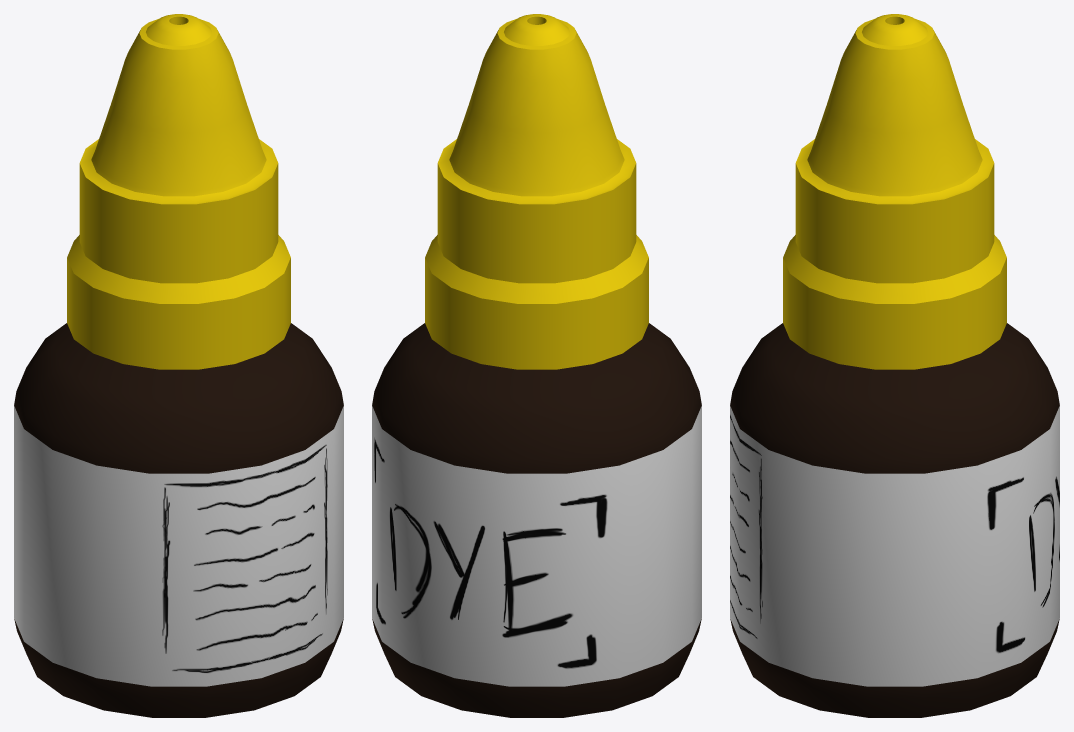
Rendered from coranteAmarelo2.fbx.
3 views of the same model, side by side, from view 1: azimuth 30°, elevation 25°; view 2: azimuth 150°, elevation 25°; view 3: azimuth 270°, elevation 25° (orthographic).
Visible parts, largest first — view 1: Corante, Tampa; view 2: Corante, Tampa; view 3: Corante, Tampa.
Part boxes in pixels (bbox=[...]): Corante: bbox=[14, 323, 343, 717]; Tampa: bbox=[67, 14, 290, 369]; Corante: bbox=[372, 323, 701, 717]; Tampa: bbox=[425, 14, 648, 369]; Corante: bbox=[730, 323, 1059, 717]; Tampa: bbox=[783, 14, 1006, 369].
Size of the model in its own units: 215 by 463 by 218.
